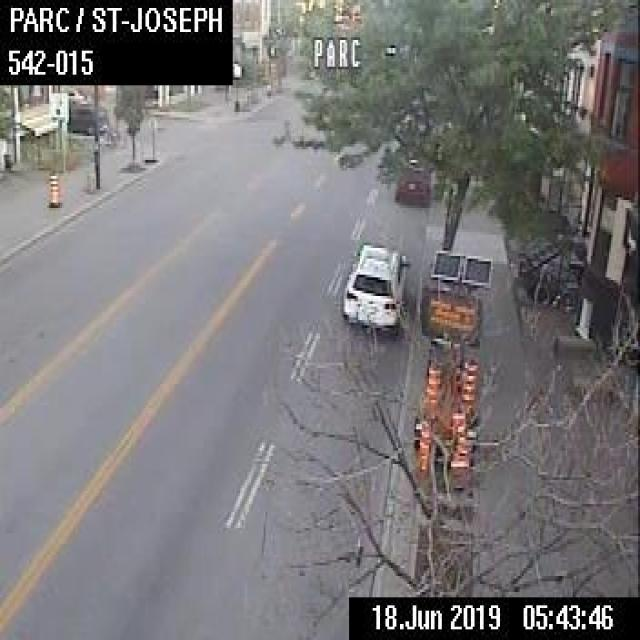construction: (411, 248, 490, 467), (447, 409, 470, 474), (46, 171, 59, 205)
vehicle: (340, 235, 409, 336), (392, 159, 432, 207), (67, 103, 107, 132), (460, 360, 477, 405), (416, 419, 431, 468), (424, 364, 438, 406), (64, 87, 86, 103)
